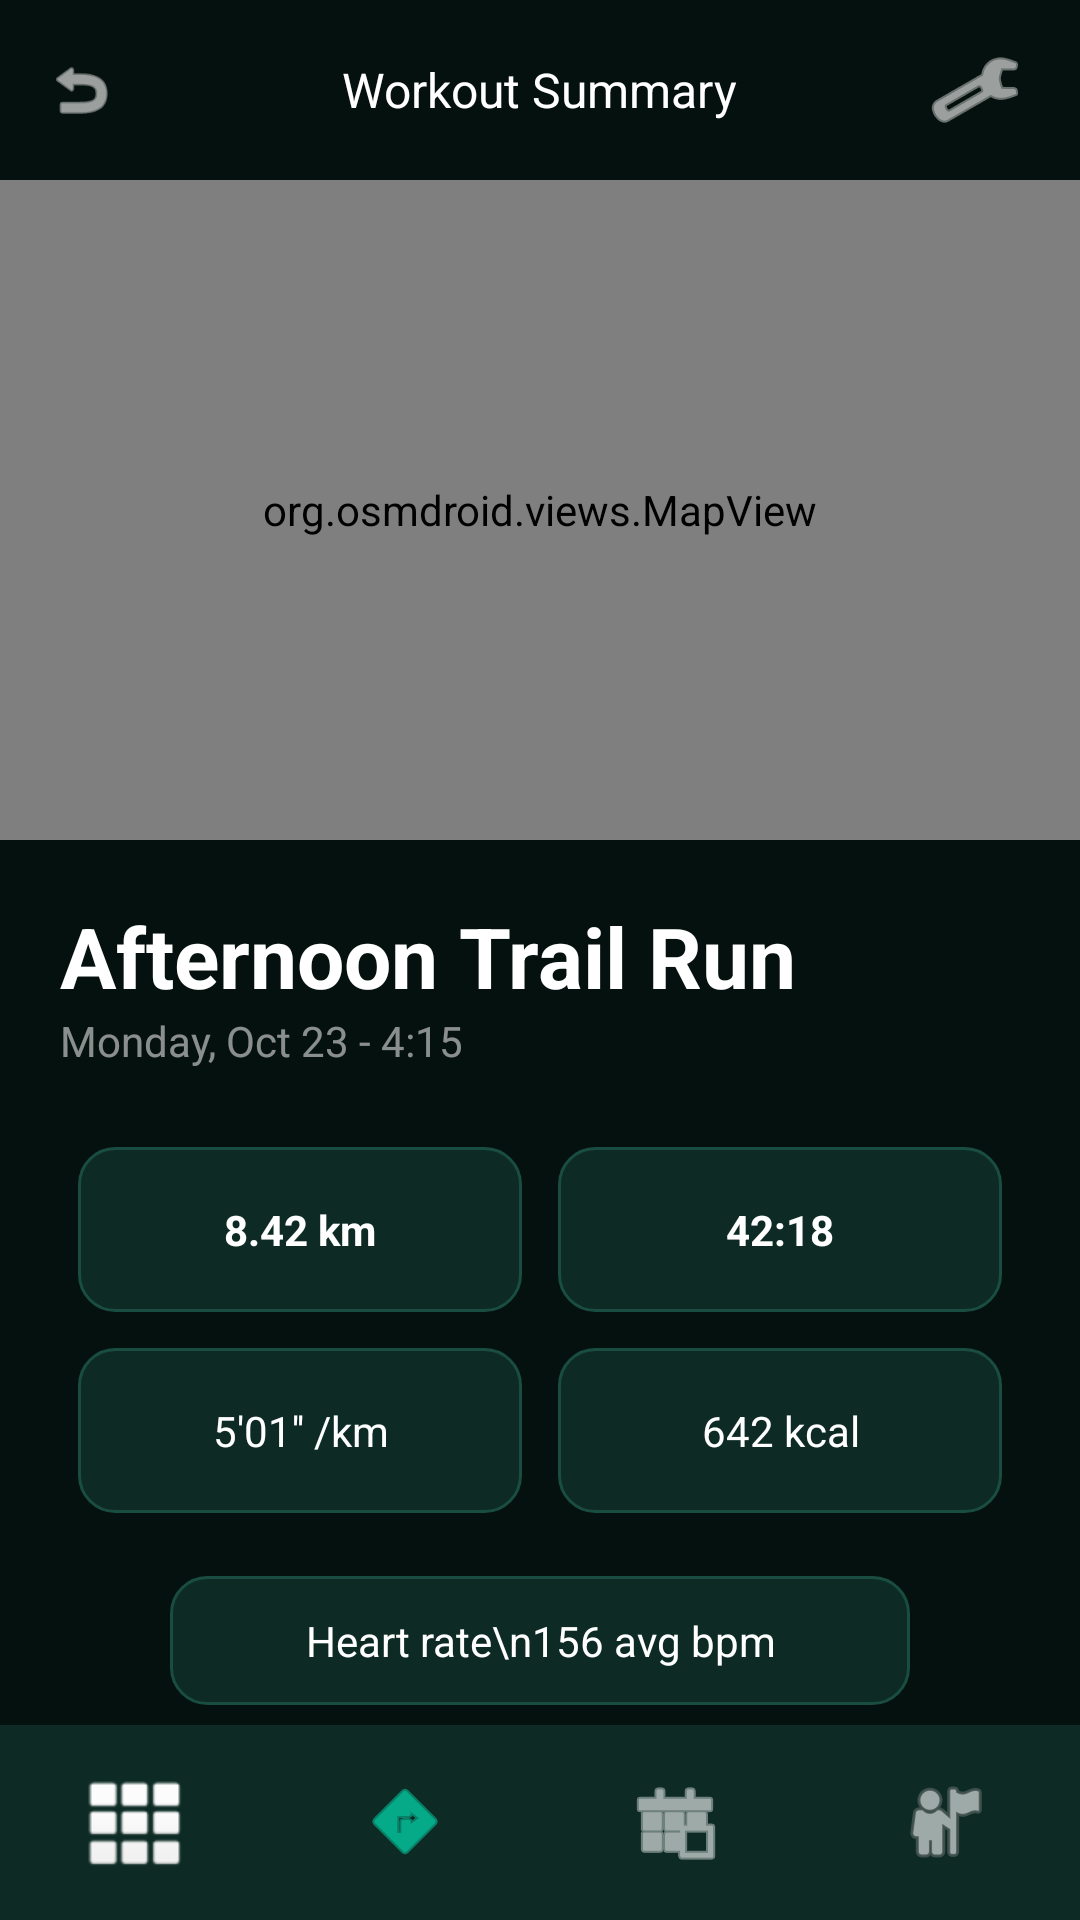

Icon click points for this 1080 × 1920 phone screenshot, format [x,y]:
dialer: [134,1823]
directions: [405,1821]
manage: [975,90]
myplaces: [946,1822]
revert: [82,90]
today: [676,1823]
